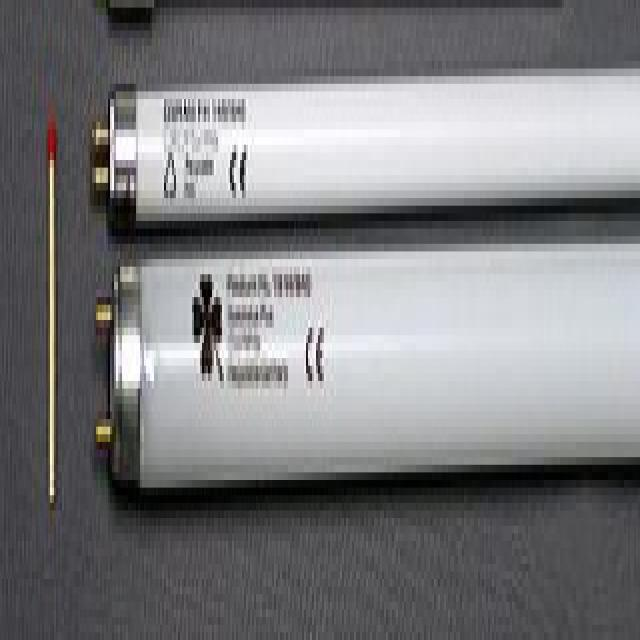bulb: (88, 0, 640, 503)
